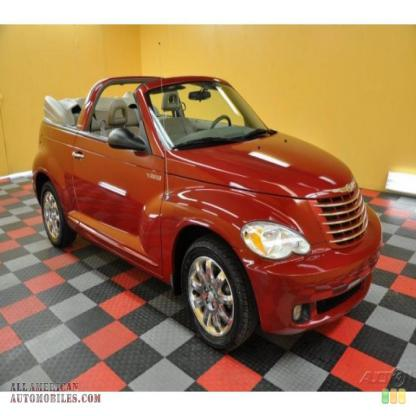Vehicle: (32, 74, 384, 350)
